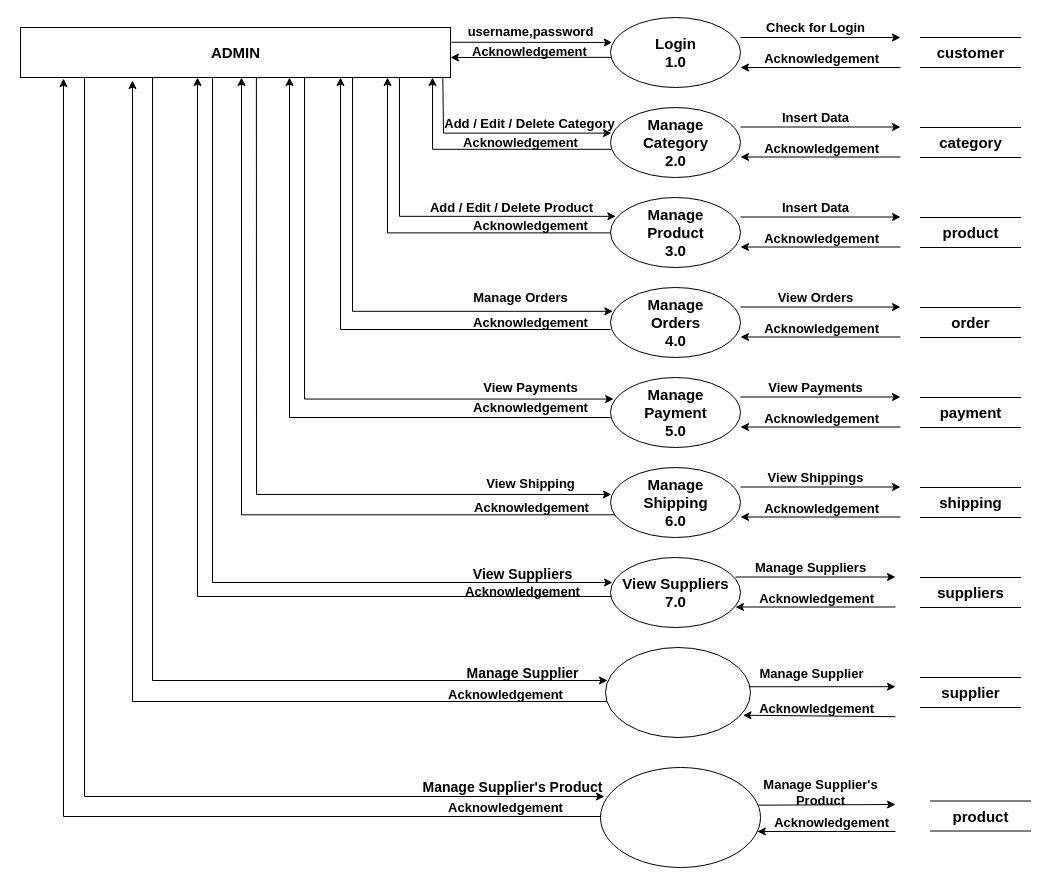
Some shapes in this 1048 by 885 pixel diagram are drawn without their labels. Here are the shapes that lost their labels. From the top down, the centre of each, then its label:
At point 677,692: "Manage Suppliers 8.0".
At point 680,817: "Manage Supplier's product 9.0".
